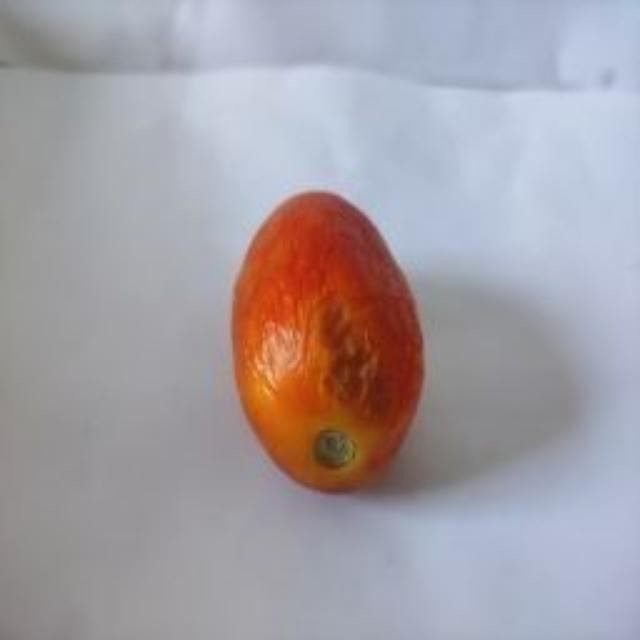defect: (229, 184, 425, 499)
